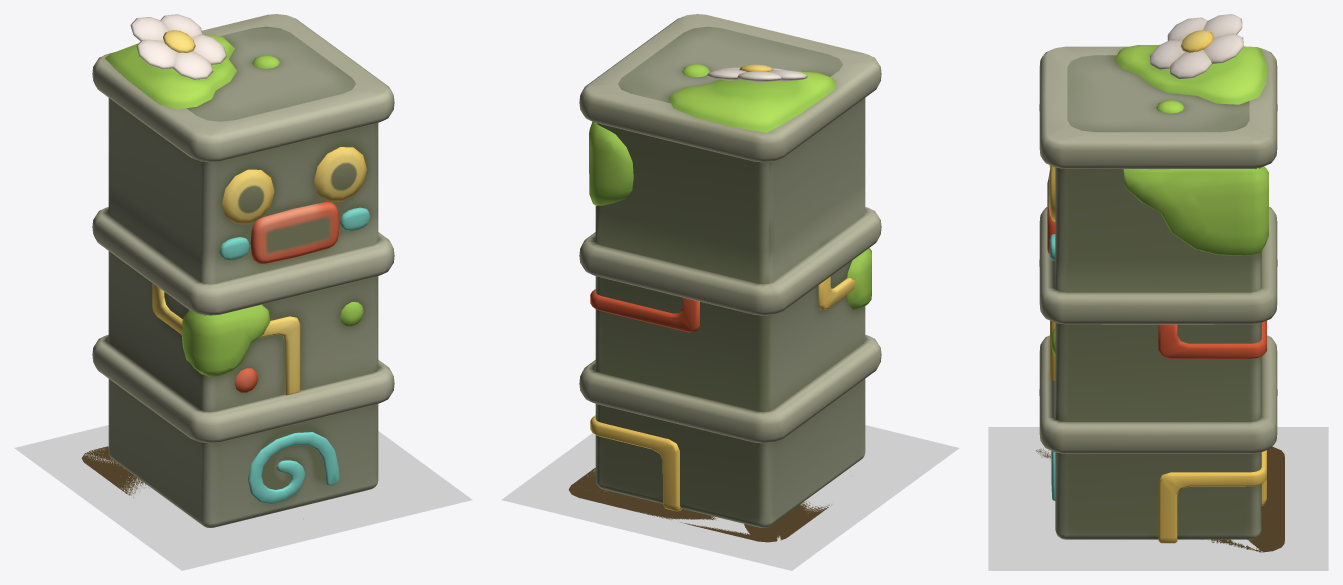
File: VK_RockSculp01.fbx
3 views of the same model, side by side, from view 1: azimuth 30°, elevation 25°; view 2: azimuth 150°, elevation 25°; view 3: azimuth 270°, elevation 25° (orthographic).
Visible parts, largest first — view 1: polySurface2, RockSculp01_Grid_Large, Shadow; view 2: polySurface2, RockSculp01_Grid_Large, Shadow; view 3: polySurface2, RockSculp01_Grid_Large, Shadow.
Part boxes in pixels (x1,y1,x2,y2): polySurface2: (92, 14, 394, 527); RockSculp01_Grid_Large: (14, 425, 472, 570); Shadow: (81, 446, 149, 497); polySurface2: (579, 14, 881, 527); RockSculp01_Grid_Large: (501, 425, 959, 570); Shadow: (568, 468, 829, 542); polySurface2: (1039, 14, 1277, 543); RockSculp01_Grid_Large: (988, 427, 1328, 570); Shadow: (1036, 447, 1284, 552).
Size of the model in its own units: 2 by 2.91 by 2.
